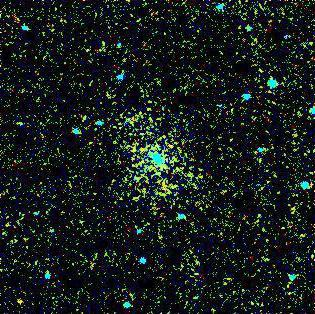star: (8, 283, 38, 313)
